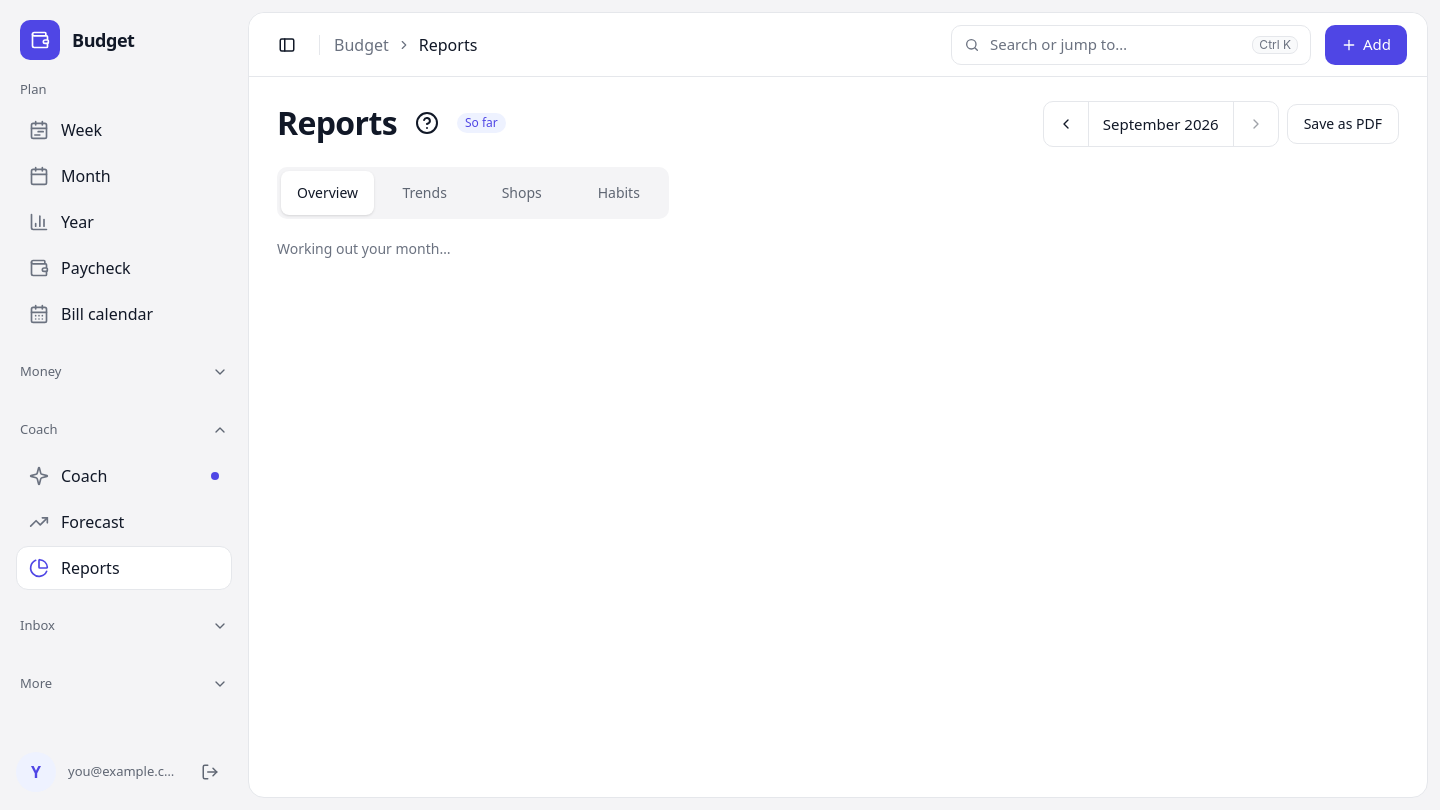
Test case: Reports, Shops: subscriptions › lists each regular charge with how often, its next date, a year of it and a price change
What coordinates should you click on to do the following:
click the tab "Shops"
I would click on:
 (522, 193)
Its box is [475,171,568,215].
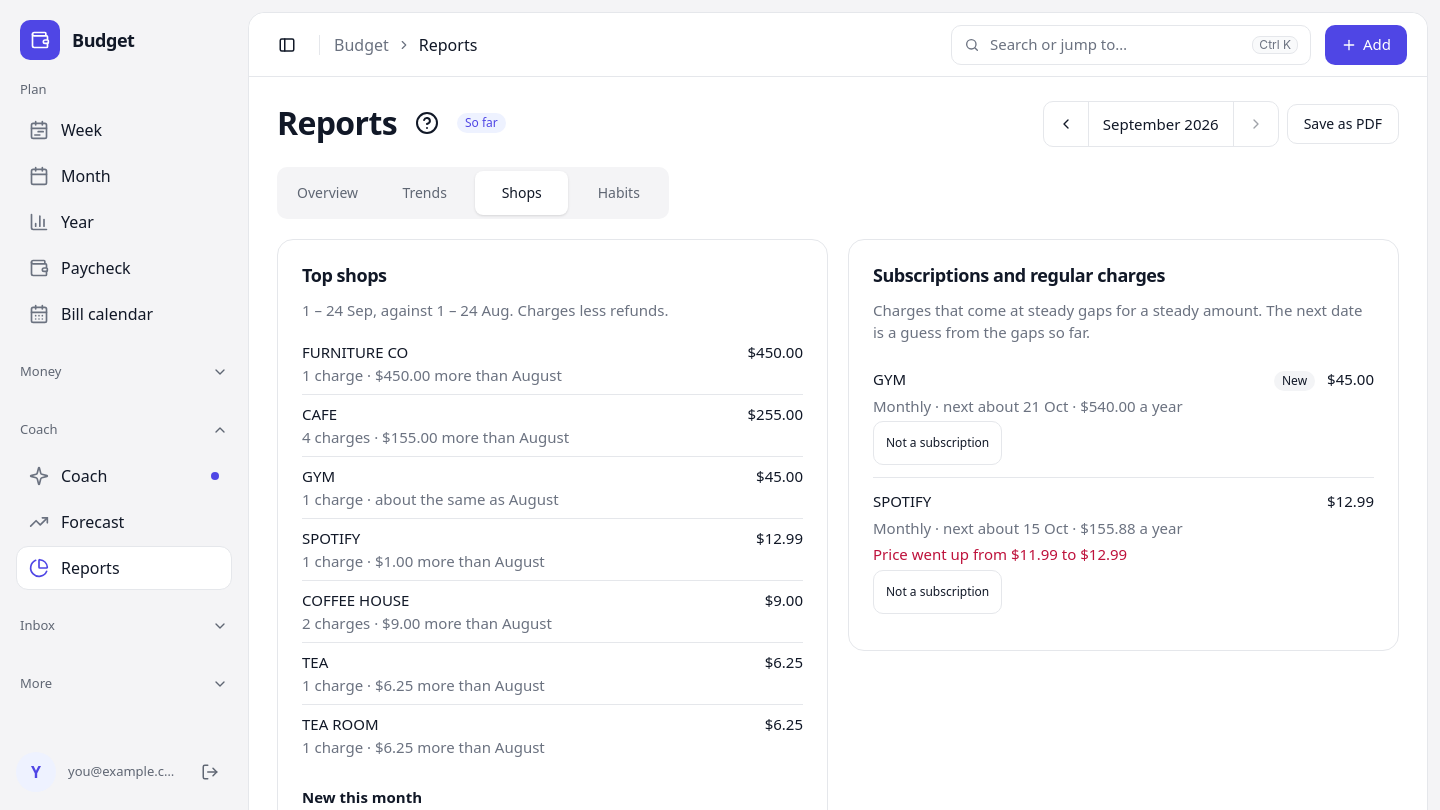
expect the text "New" is shown: met, box [1274,370,1315,390]
expect the text "Monthly · next about 21 Oct · $540.00 a year" is shown: met, box [873,356,1374,478]
expect the text "Monthly · next about 15 Oct · $155.88 a year" is shown: met, box [873,478,1374,626]
